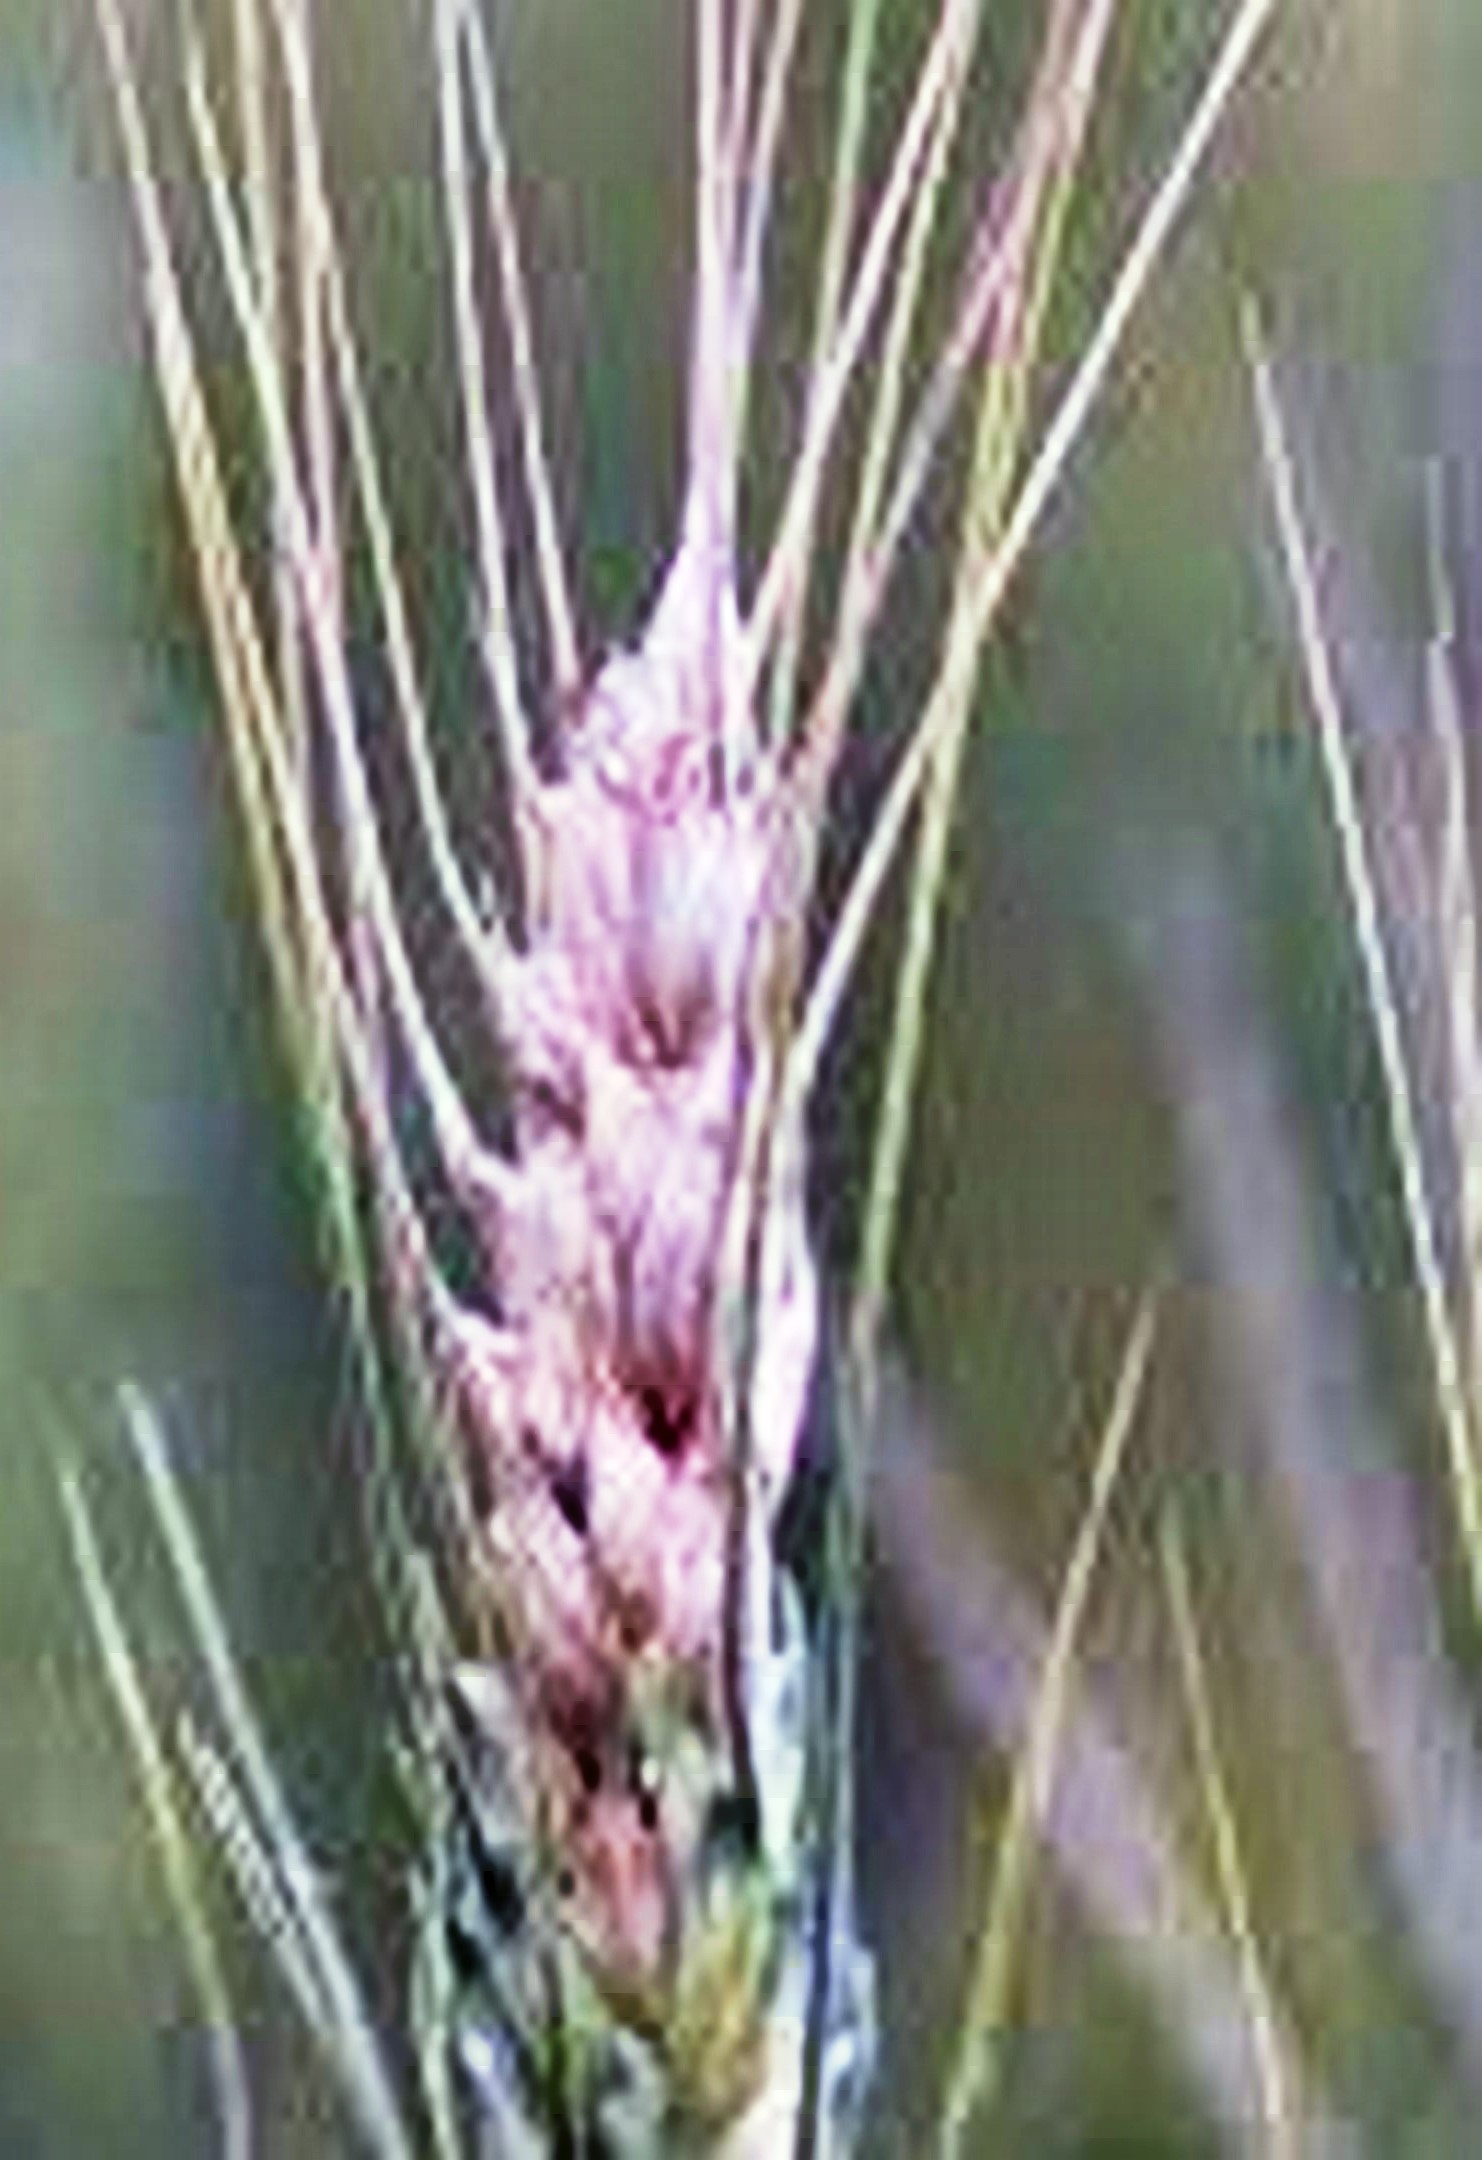Wheat scab: (368, 591, 909, 2139)
